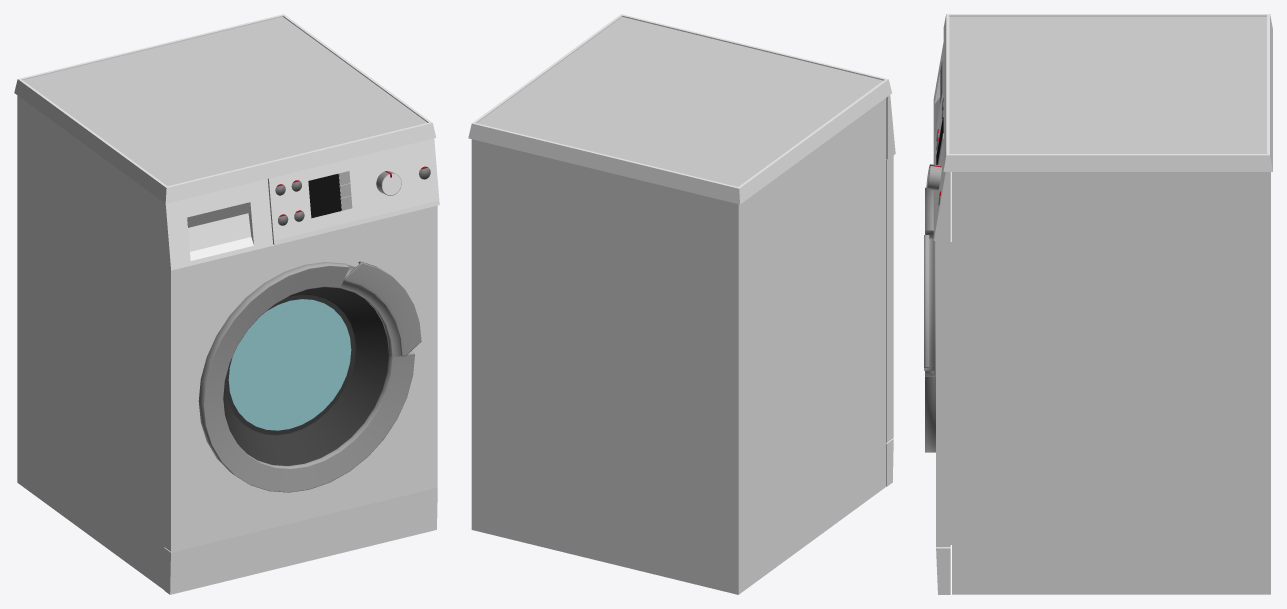
The model's file is clothes_washing_machine_bignormflip.fbx.
3 views of the same model, side by side, from view 1: azimuth 30°, elevation 25°; view 2: azimuth 150°, elevation 25°; view 3: azimuth 270°, elevation 25° (orthographic). The views are drawn at different scales.
Visible parts, largest first — view 1: base, front, top, door, control, control-box, display, handle; view 2: base, top, front; view 3: base, top, front, door, control-box, control.
Part boxes in pixels (bbox=[...]): base: bbox=[17, 95, 164, 589]; front: bbox=[164, 205, 437, 594]; top: bbox=[14, 14, 436, 203]; door: bbox=[198, 261, 421, 492]; control: bbox=[165, 138, 439, 270]; control-box: bbox=[163, 178, 439, 270]; display: bbox=[308, 173, 341, 218]; handle: bbox=[187, 202, 250, 227]; base: bbox=[471, 98, 885, 594]; top: bbox=[468, 14, 891, 204]; front: bbox=[886, 155, 893, 486]; base: bbox=[952, 172, 1270, 594]; top: bbox=[943, 14, 1272, 171]; front: bbox=[936, 172, 951, 594]; door: bbox=[924, 187, 935, 452]; control-box: bbox=[933, 72, 950, 240]; control: bbox=[933, 42, 945, 234].
Bounding box in the file's own units: 59 × 84.2 × 60.55.
